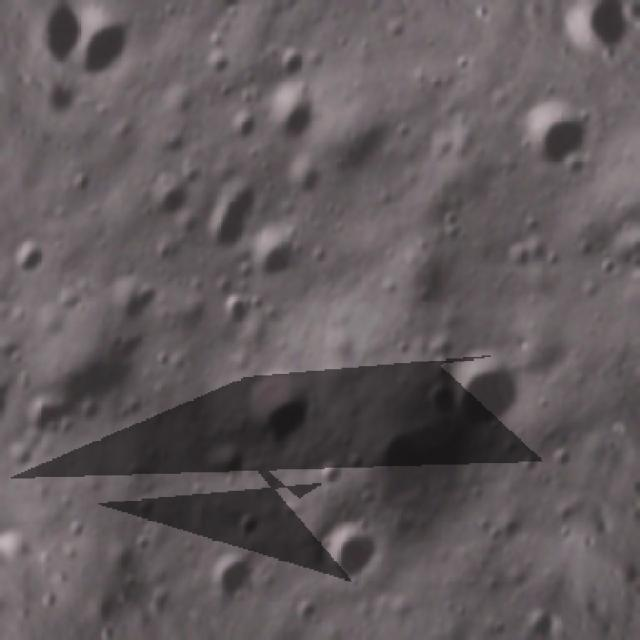crater: (366, 408, 474, 529), (448, 347, 530, 438), (240, 368, 318, 454), (71, 0, 140, 92), (200, 538, 282, 610), (318, 513, 394, 589), (201, 170, 267, 252), (526, 94, 592, 168), (263, 86, 328, 156), (589, 203, 640, 291), (137, 162, 194, 227), (255, 227, 310, 285), (0, 364, 23, 462), (265, 40, 313, 82), (0, 523, 52, 558), (8, 237, 50, 280), (220, 105, 260, 149), (420, 376, 458, 419)
